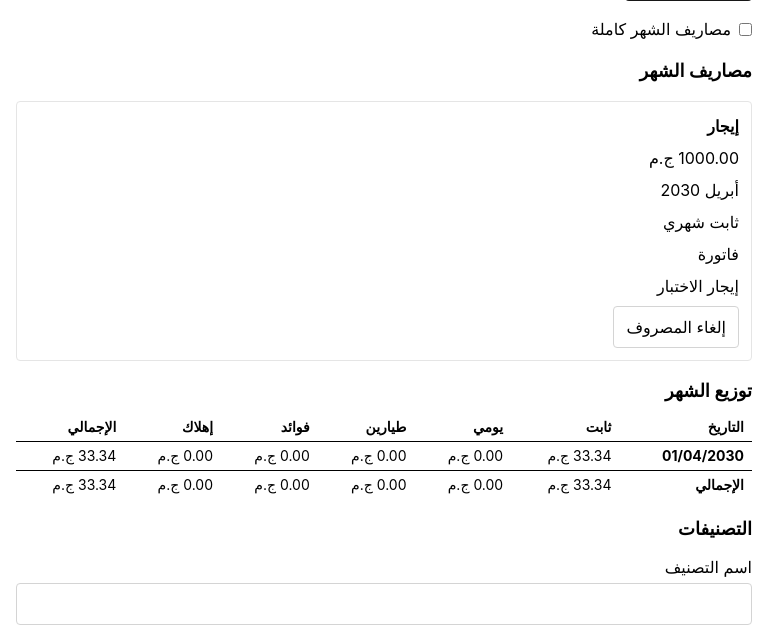
Scenario: ExpensesPage › voids an entry after a reason and reloads it as voided
(page scrolled)
Click the button "إلغاء المصروف".
click(676, 327)  # box [614,306,739,348]
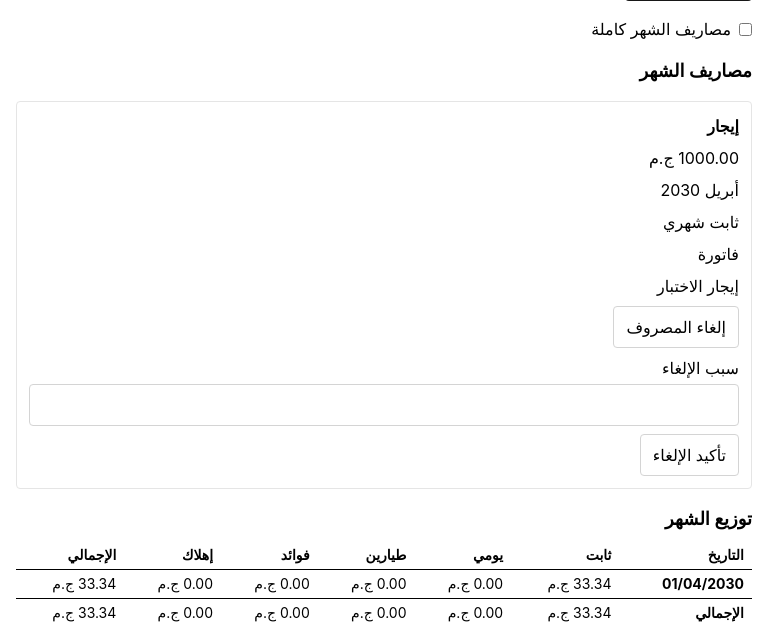
Type "تكرار" into the field labelled "سبب الإلغاء".
click(384, 405); type("تكرار")  # box [29,384,739,426]
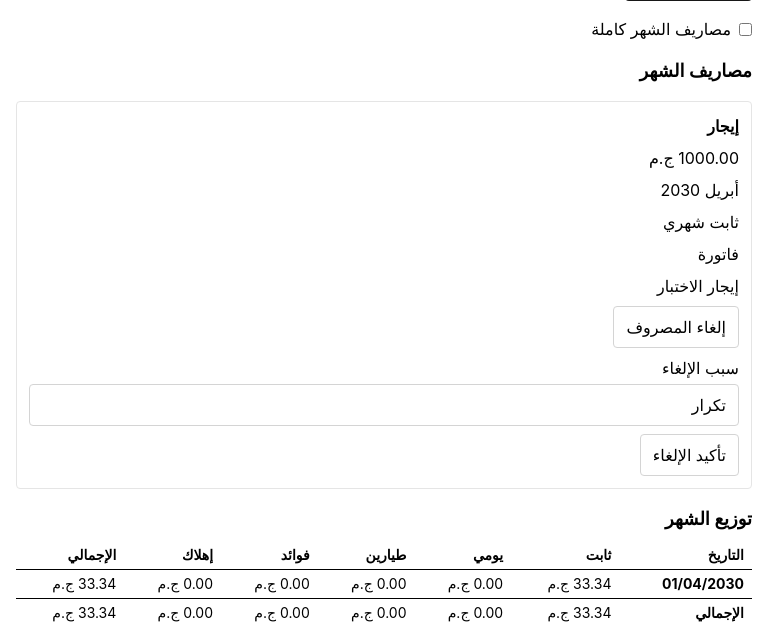
Click the button "تأكيد الإلغاء".
click(689, 455)  # box [640,434,739,476]
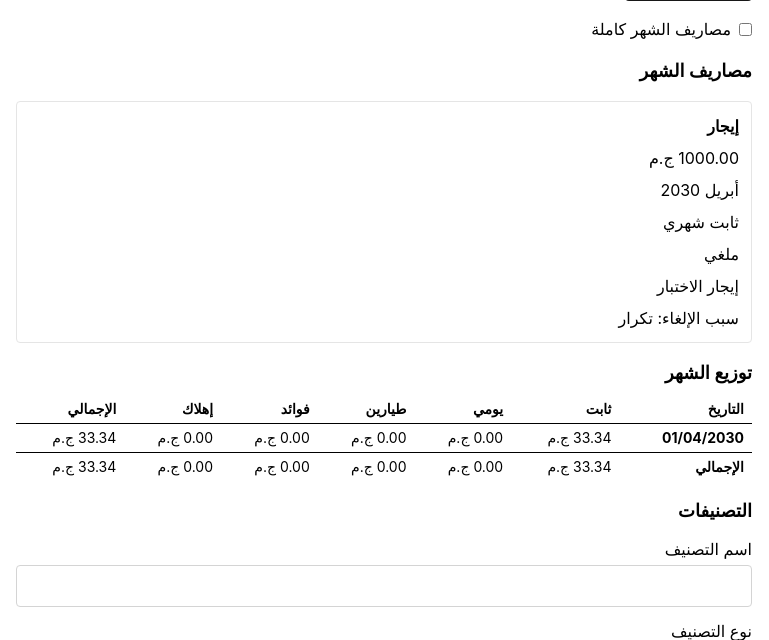
expect the text "ملغي" is shown: met, box [704,244,739,264]
expect the button "إلغاء المصروف" is gone: met
